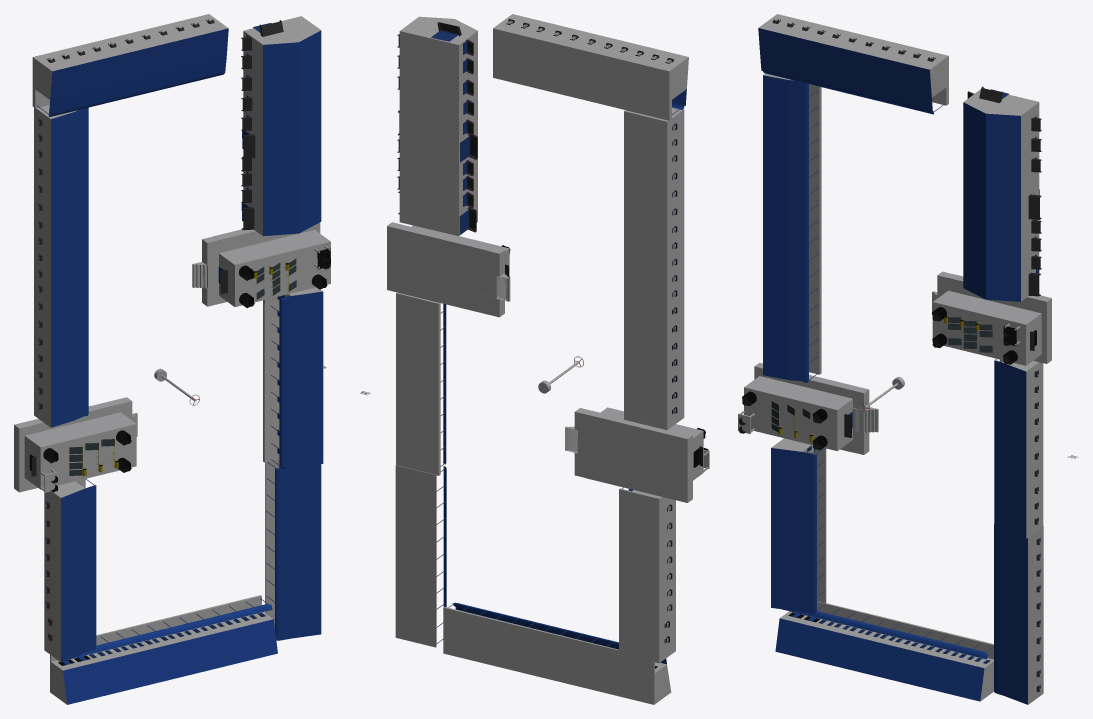
3 views of the same model, side by side, from view 1: azimuth 30°, elevation 25°; view 2: azimuth 150°, elevation 25°; view 3: azimuth 330°, elevation 25° (orthographic). The views are drawn at different scales.
Visible parts, largest first — view 1: Cube.309_Cube.807, Cube.465_Cube.974, Cube.310_Cube.808, Cube.308_Cube.806, Cube.312_Cube.810, Cube.311_Cube.809, Cube.306_Cube.804, Cube.466_Cube.975, Cube.471_Cube.980, TANKstl.010, helmet.007_BezierCurve.008, helmet.009_BezierCurve.010 (+5 smaller); view 2: Cube.309_Cube.807, Cube.465_Cube.974, Cube.310_Cube.808, Cube.308_Cube.806, Cube.306_Cube.804, Cube.471_Cube.980, Cube.466_Cube.975, Cube.312_Cube.810, Cube.311_Cube.809, helmet.008_BezierCurve.009, helmet.007_BezierCurve.008, helmet.009_BezierCurve.010; view 3: Cube.309_Cube.807, Cube.465_Cube.974, Cube.310_Cube.808, Cube.308_Cube.806, Cube.306_Cube.804, Cube.312_Cube.810, Cube.311_Cube.809, Cube.471_Cube.980, Cube.466_Cube.975, TANKstl.010, helmet.011_BezierCurve.012, helmet.007_BezierCurve.008 (+2 smaller).
Part boxes in pixels (x1,y1,x2,y2): Cube.309_Cube.807: (34,105,86,427); Cube.465_Cube.974: (243,16,321,236); Cube.310_Cube.808: (32,14,228,115); Cube.308_Cube.806: (50,595,277,704); Cube.312_Cube.810: (263,287,326,469); Cube.311_Cube.809: (265,459,321,640); Cube.306_Cube.804: (44,479,94,662); Cube.466_Cube.975: (192,222,330,306); Cube.471_Cube.980: (14,397,137,492); TANKstl.010: (239,248,330,307); helmet.007_BezierCurve.008: (70,604,272,658); helmet.009_BezierCurve.010: (275,468,280,640); Cube.309_Cube.807: (624,107,684,429); Cube.465_Cube.974: (399,16,477,236); Cube.310_Cube.808: (493,14,688,120); Cube.308_Cube.806: (443,606,671,704); Cube.306_Cube.804: (619,488,675,663); Cube.471_Cube.980: (565,407,703,502); Cube.466_Cube.975: (387,222,510,317); Cube.312_Cube.810: (360,292,440,475); Cube.311_Cube.809: (395,465,436,647); helmet.008_BezierCurve.009: (443,304,446,464); helmet.007_BezierCurve.008: (452,603,618,645); helmet.009_BezierCurve.010: (443,466,446,606); Cube.309_Cube.807: (763,73,821,381); Cube.465_Cube.974: (963,89,1039,301); Cube.310_Cube.808: (758,14,948,112); Cube.308_Cube.806: (775,601,993,701); Cube.306_Cube.804: (771,438,826,613); Cube.312_Cube.810: (996,359,1076,538); Cube.311_Cube.809: (997,526,1043,704); Cube.471_Cube.980: (744,362,878,454); Cube.466_Cube.975: (932,271,1051,365); TANKstl.010: (932,307,1017,364); helmet.011_BezierCurve.012: (803,83,808,382); helmet.007_BezierCurve.008: (782,609,988,659).
Bounding box in the file's own units: 3.15 × 6.09 × 0.7721.
